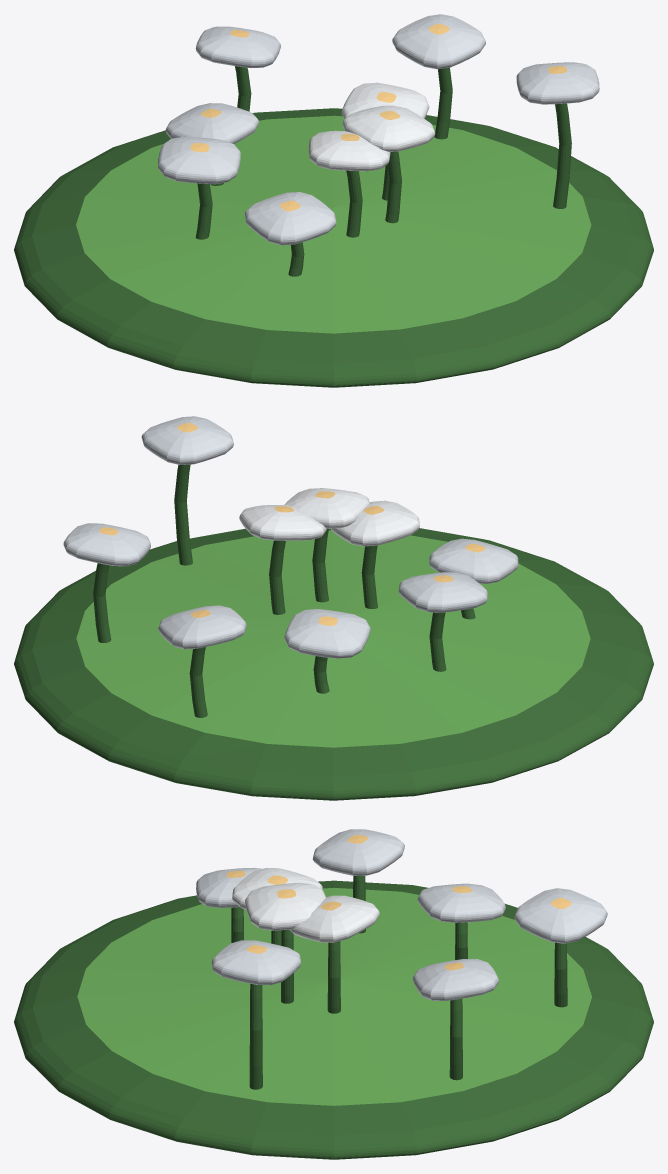
The model's file is FlowerPatch.obj.
3 renders of one model, top to bottom at view 1: azimuth 30°, elevation 25°; view 2: azimuth 150°, elevation 25°; view 3: azimuth 270°, elevation 25°, orthographic.
Size of the model in its own units: 3.8 by 1.22 by 3.8.
